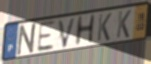E: (35, 19, 56, 53)
H: (74, 12, 97, 48)
K: (116, 9, 133, 39), (96, 12, 113, 42)
N: (16, 21, 39, 58)
V: (57, 16, 77, 50)
